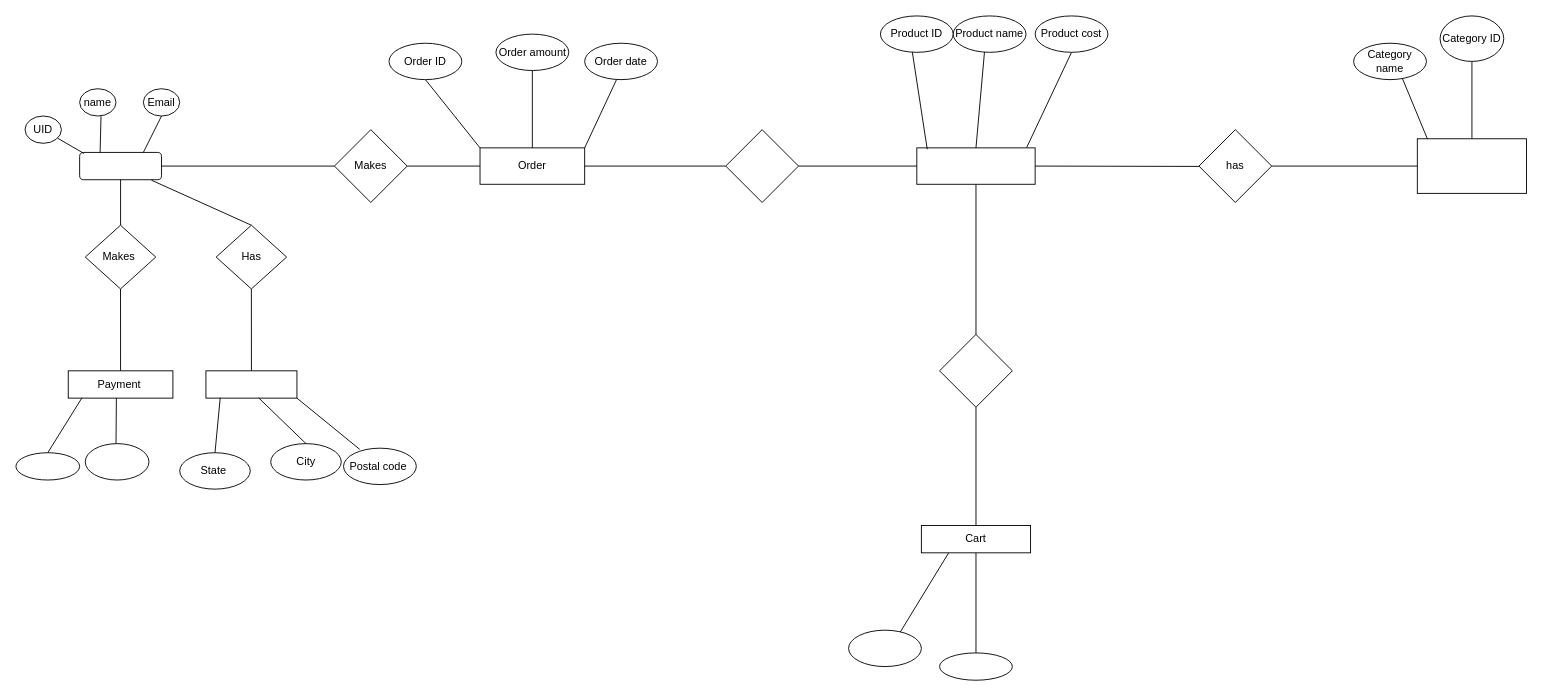
Some shapes in this 1542 by 696 pixel diagram are drawn without their labels. Here are the shapes that lost their labels. From the top down, the box of each, then its label:
(79, 152, 162, 180): Customer
(725, 129, 799, 202): Contains
(916, 147, 1035, 184): Product
(1416, 138, 1527, 193): Product Category
(205, 370, 297, 398): Address
(939, 334, 1012, 407): Added to
(15, 452, 80, 480): Method
(84, 443, 149, 480): Payment id
(848, 629, 921, 667): Cart size
(939, 652, 1012, 680): cart ID
